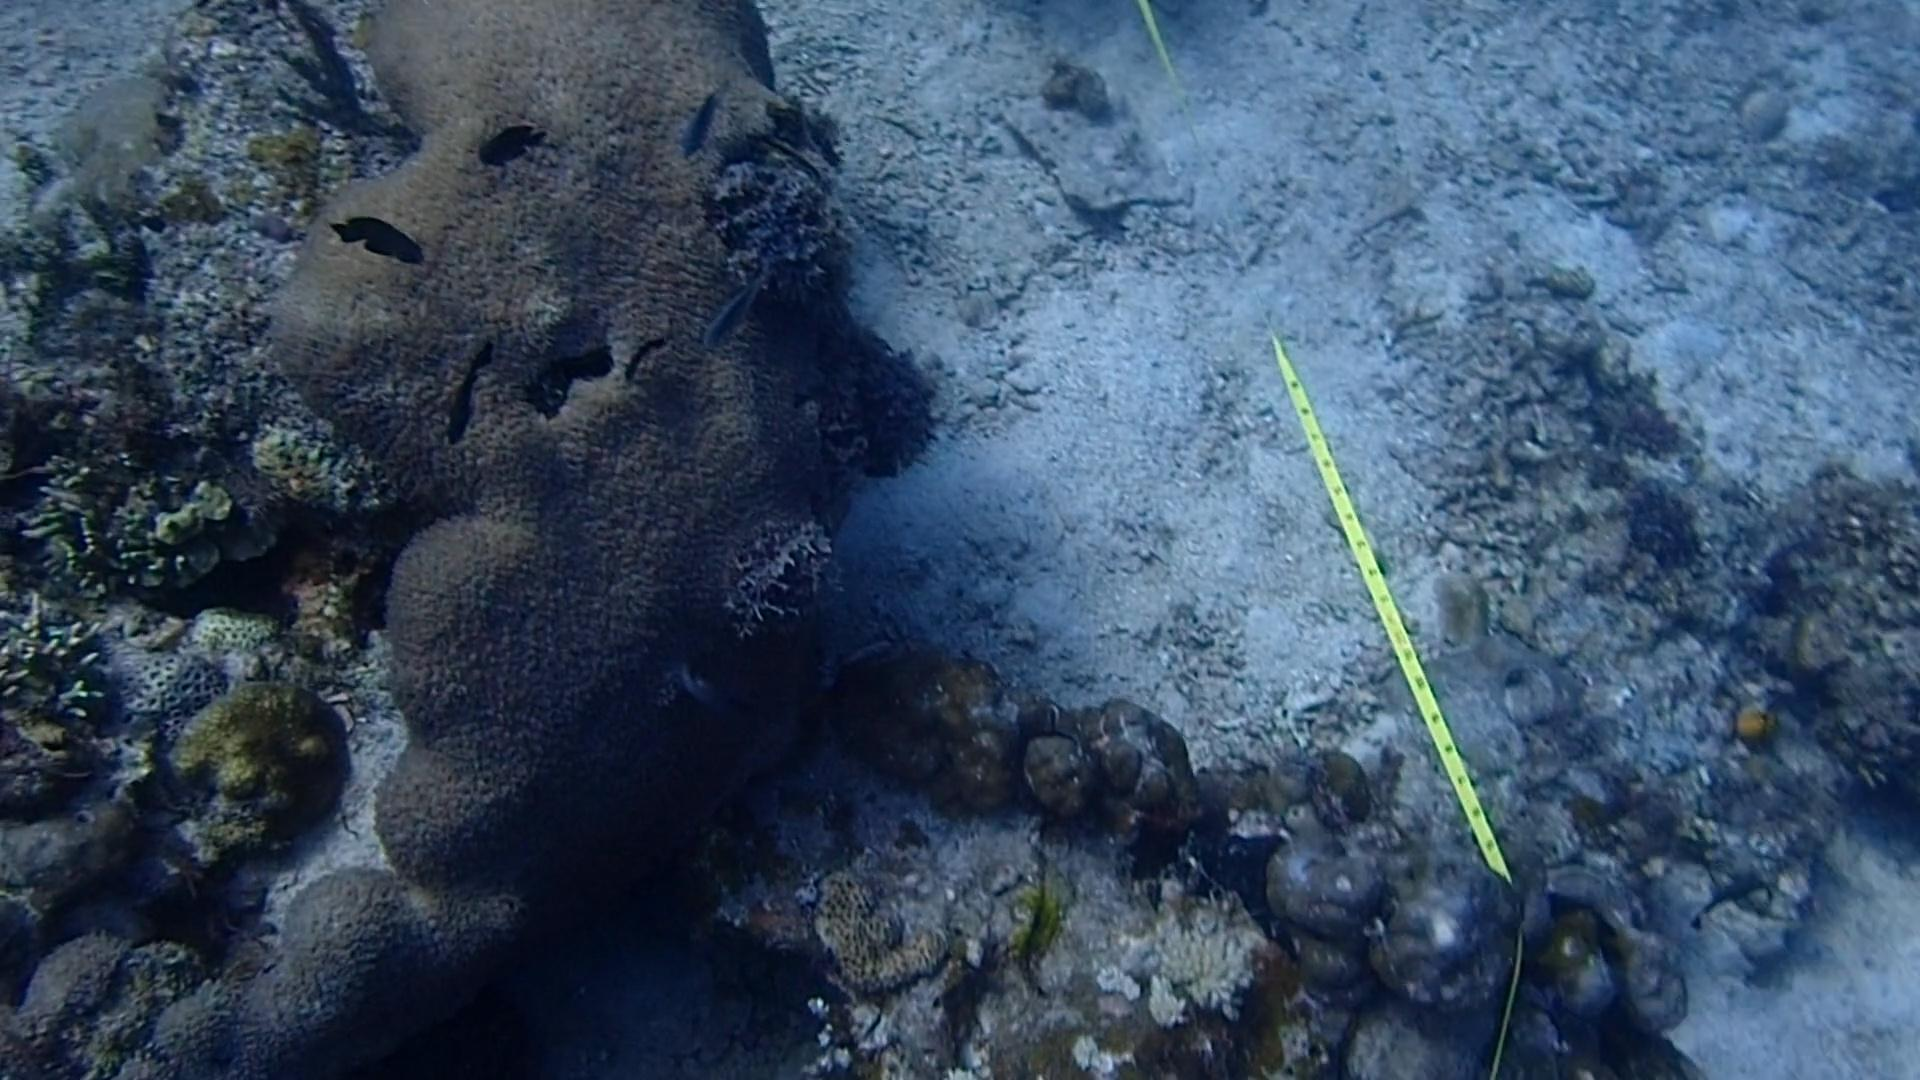Dark Fish: (433, 334, 504, 450), (459, 113, 555, 185), (328, 212, 426, 276), (1692, 872, 1768, 938)
Light Fish: (658, 654, 750, 756), (698, 264, 762, 360), (670, 82, 727, 165)
